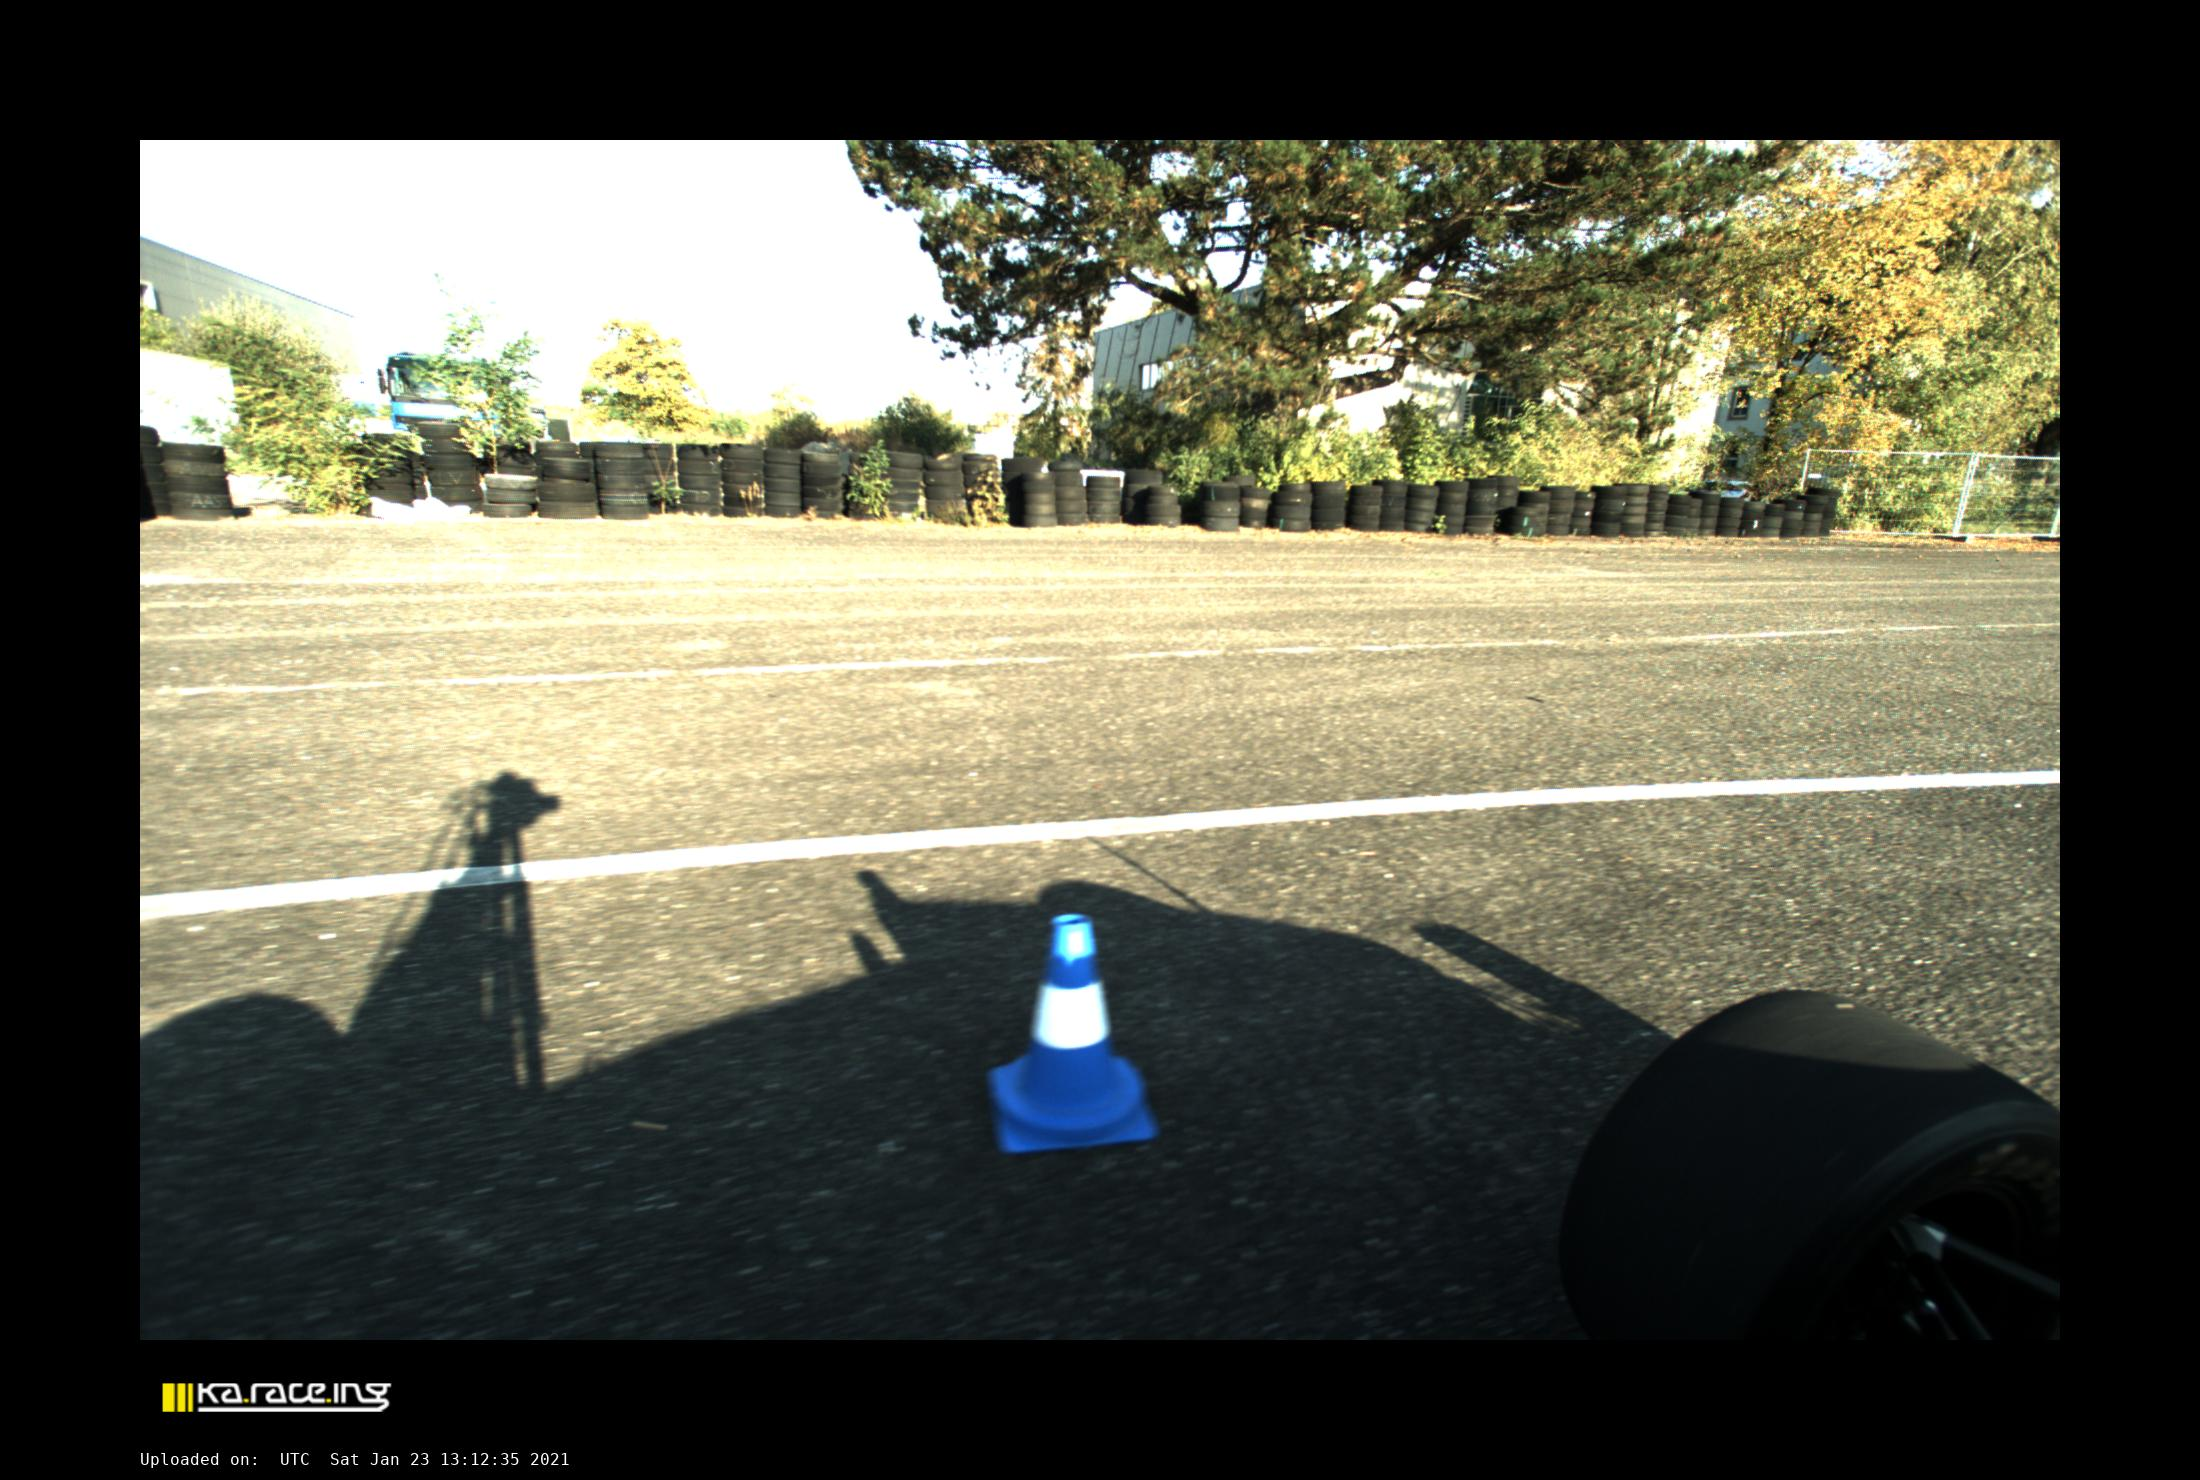blue_cone: (984, 913, 1159, 1153)
